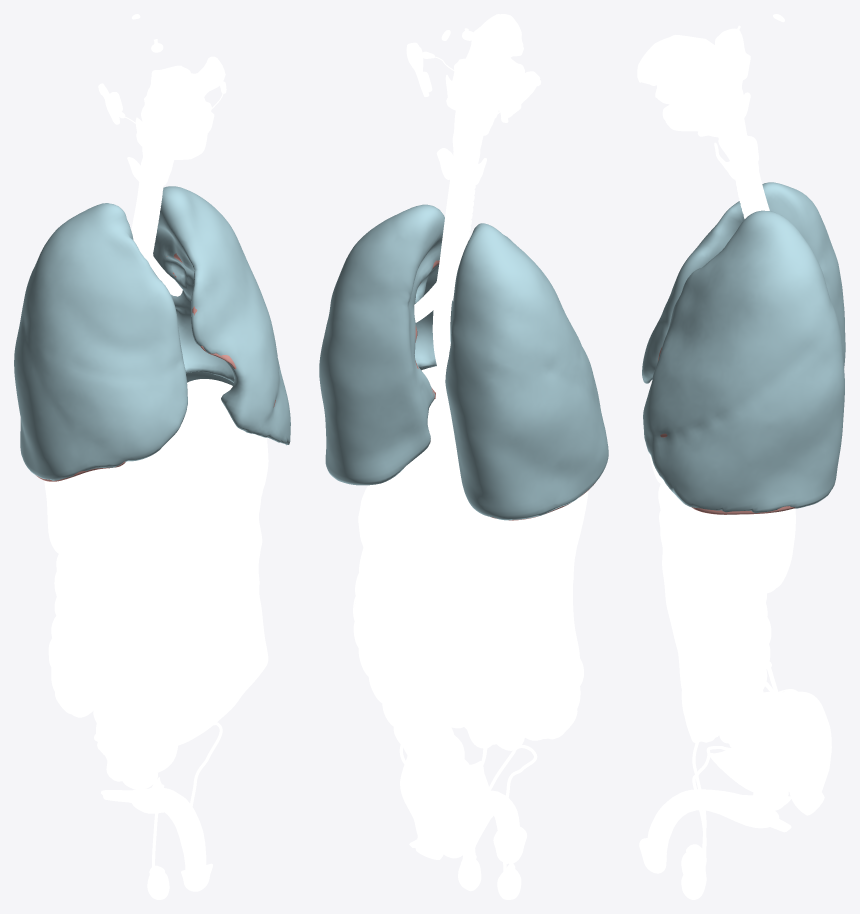
File: sys_O.glb
3 views of the same model, side by side, from view 1: azimuth 30°, elevation 25°; view 2: azimuth 150°, elevation 25°; view 3: azimuth 270°, elevation 25° (orthographic). The views are drawn at different scales.
Visible parts, largest first — view 1: O71, O30, O49, O13, O88, O15, O28, O58, O111, O106, O68, O54 (+3 smaller); view 2: O71, O35, O13, O17, O86, O49, O36, O61, O37, O88, O63, O15 (+20 smaller); view 3: O71, O30, O17, O86, O15, O58, O36, O111, O28, O88, O54, O59 (+13 smaller).
Boxes of the visible parts, bbox=[...] form: O71: bbox=[14, 186, 290, 480]; O30: bbox=[65, 484, 268, 747]; O49: bbox=[44, 379, 260, 556]; O13: bbox=[48, 554, 97, 717]; O88: bbox=[170, 436, 268, 533]; O15: bbox=[101, 777, 206, 869]; O28: bbox=[135, 101, 211, 159]; O58: bbox=[159, 65, 210, 128]; O111: bbox=[102, 731, 177, 775]; O106: bbox=[133, 184, 163, 260]; O68: bbox=[191, 56, 225, 96]; O54: bbox=[49, 549, 125, 713]; O71: bbox=[319, 204, 608, 520]; O35: bbox=[391, 527, 542, 750]; O13: bbox=[518, 564, 583, 738]; O17: bbox=[354, 548, 464, 775]; O86: bbox=[400, 727, 464, 859]; O49: bbox=[421, 366, 588, 573]; O36: bbox=[358, 482, 418, 574]; O61: bbox=[432, 165, 469, 438]; O37: bbox=[486, 522, 535, 616]; O88: bbox=[407, 413, 462, 483]; O63: bbox=[451, 71, 520, 129]; O15: bbox=[409, 790, 520, 862]; O71: bbox=[642, 182, 845, 513]; O30: bbox=[659, 498, 728, 743]; O17: bbox=[715, 530, 796, 755]; O86: bbox=[788, 691, 831, 815]; O15: bbox=[646, 789, 791, 854]; O58: bbox=[637, 35, 706, 86]; O36: bbox=[755, 508, 795, 593]; O111: bbox=[710, 748, 798, 794]; O28: bbox=[655, 82, 718, 131]; O88: bbox=[658, 481, 740, 537]; O54: bbox=[720, 536, 795, 739]; O59: bbox=[705, 39, 743, 89].
Size of the model in its own units: 0.2634 by 0.8931 by 0.1926.
